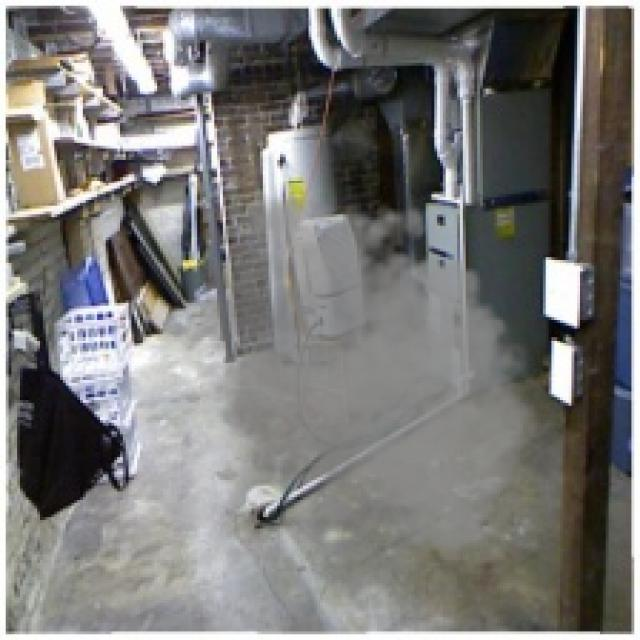smoke: (172, 180, 552, 560)
